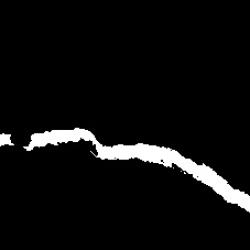crack: (27, 129, 249, 212), (2, 131, 13, 145)
